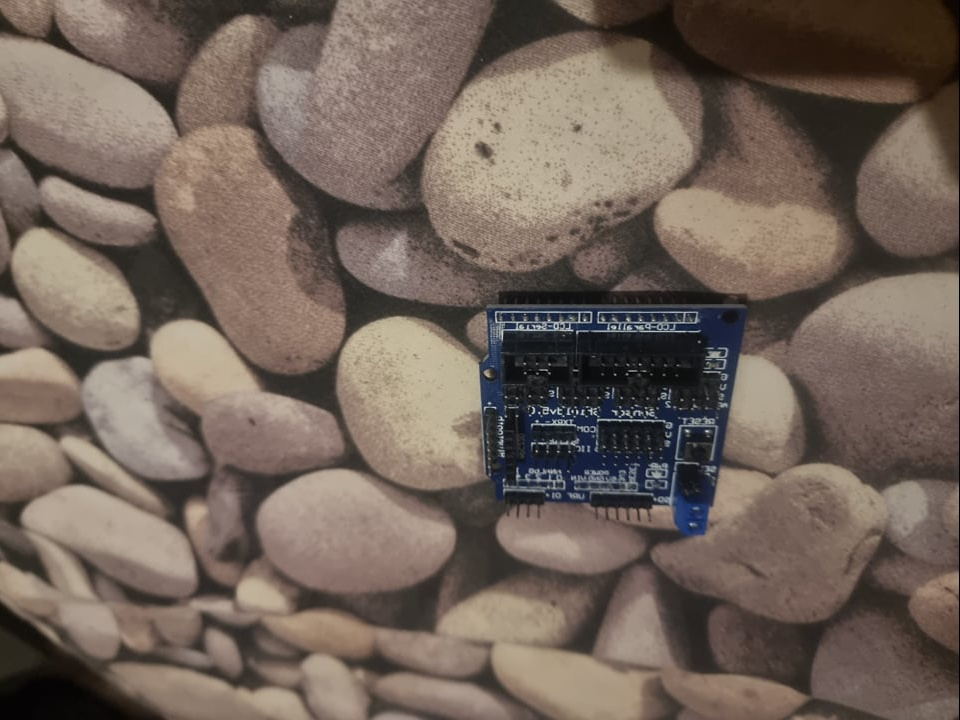5V EXPANSION: (479, 298, 750, 534)
